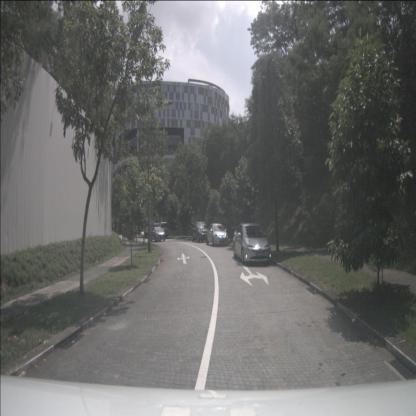vehicle-car: (234, 223, 272, 265), (206, 223, 228, 247), (192, 221, 209, 243), (149, 227, 166, 242)
vehicle-truck: (145, 222, 168, 239)
